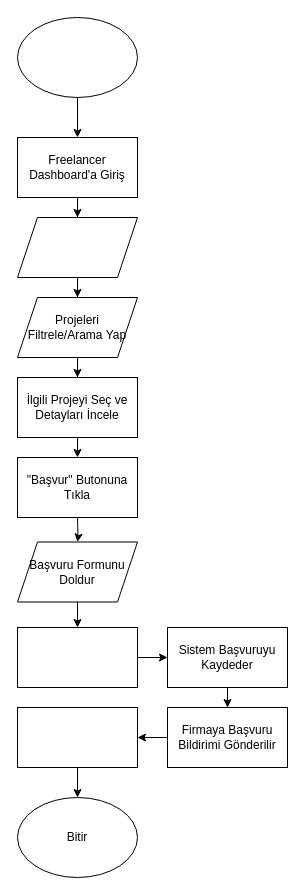
This 305x895 diagram has some shape labels left out. The centre of each missing label's shape, as x and y in pixels:
"Başvuruyu Gönder" Butonuna Tıkla: pixel 77 657
Başla: pixel 77 57
Freelancer Başvurularım Sekmesinden Takip Eder: pixel 77 737
Projeler Sekmesine Git: pixel 77 247
